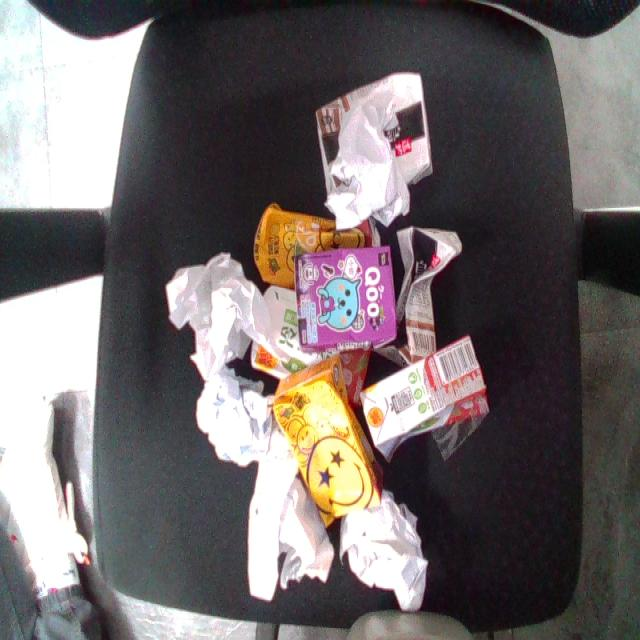juicebox: (334, 317, 523, 486), (261, 349, 409, 539), (284, 235, 403, 363), (384, 218, 471, 376)
paper: (154, 239, 291, 395), (233, 434, 353, 602), (308, 79, 429, 237), (190, 357, 280, 476)
